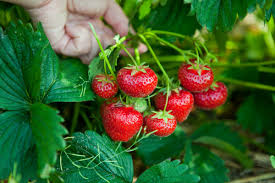ripe: (102, 105, 143, 142), (154, 87, 196, 121), (117, 64, 158, 98), (178, 56, 215, 93), (193, 79, 230, 111), (144, 111, 176, 136), (89, 73, 121, 98), (100, 100, 123, 115)
